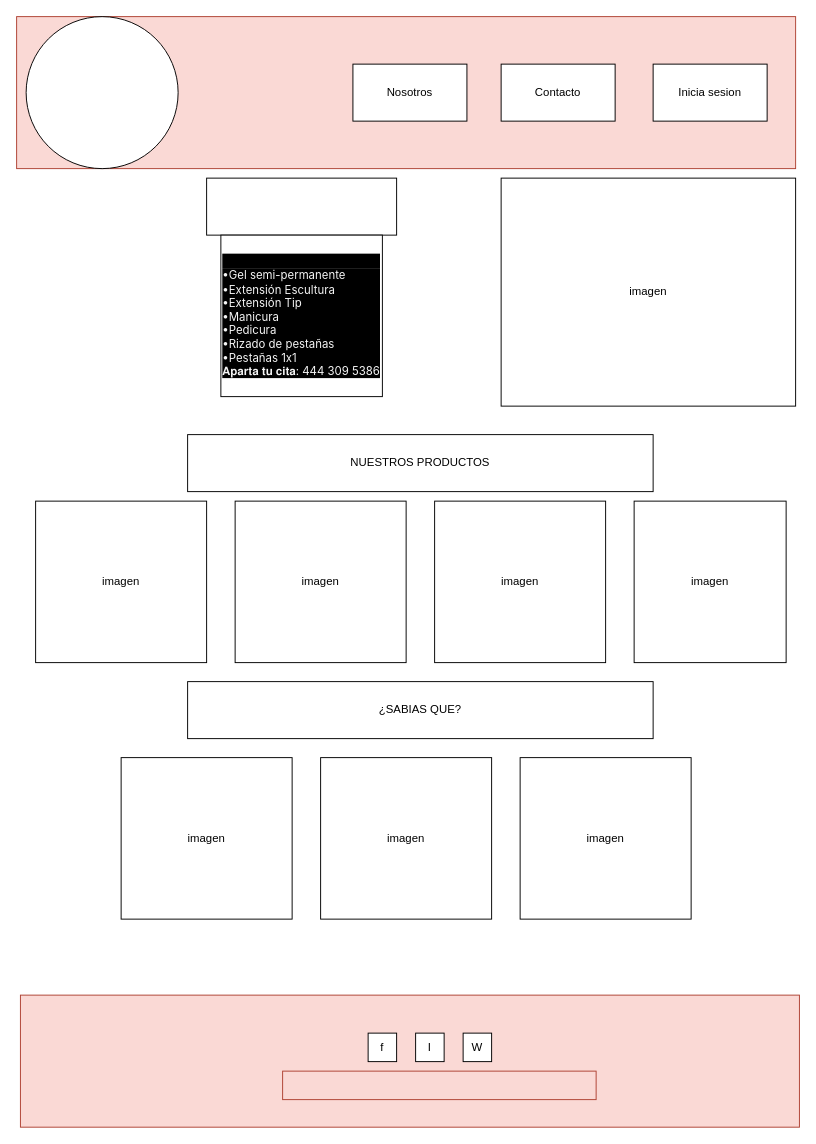
The diagram is 816 pixels wide and 1144 high, and some of its shapes have lost their labels. The shapes that lost their labels are listed below. From the top down, each one's centre as x and y in pixels, then its label:
the point at 101,92: ICONO DE LA EMPRESA
the point at 301,206: DE studio vanidad para tu belleza
the point at 439,1085: San Luis Potosi, S.L.P.
